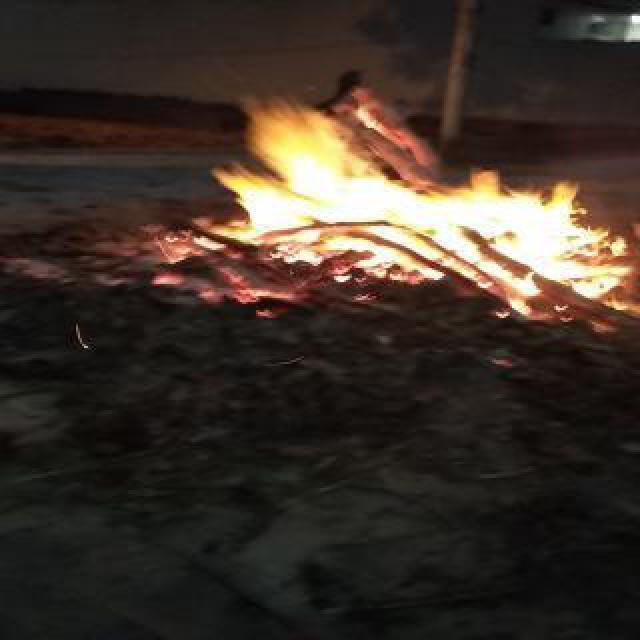Fire: (208, 62, 636, 310)
